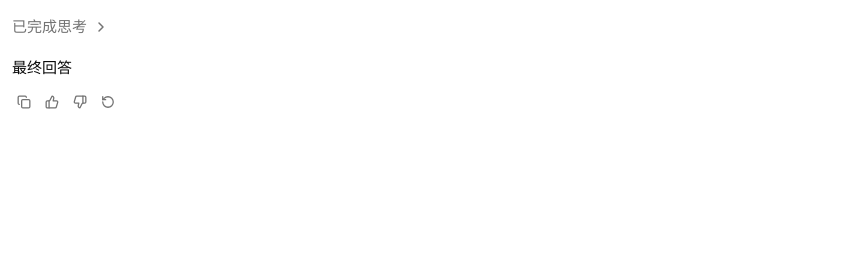
Test: AssistantMessage generic General ReAct presentation › renders Tool/Skill/Resource/Prompt only inside one Trace
The image size is (845, 255).
Step 1. Click the button "已完成思考" → (60,27), box [12,12,109,42]
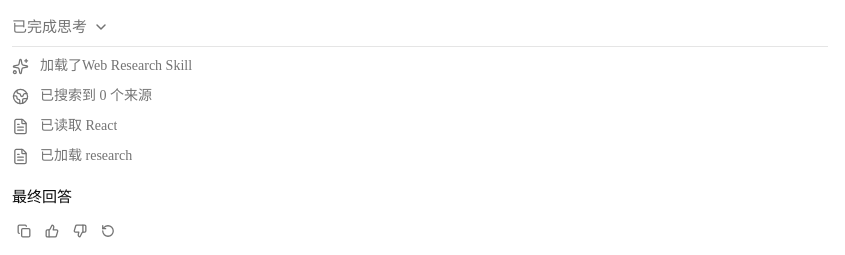
expect the text "已搜索到 0 个来源" is shown: met, box [40,86,152,106]
